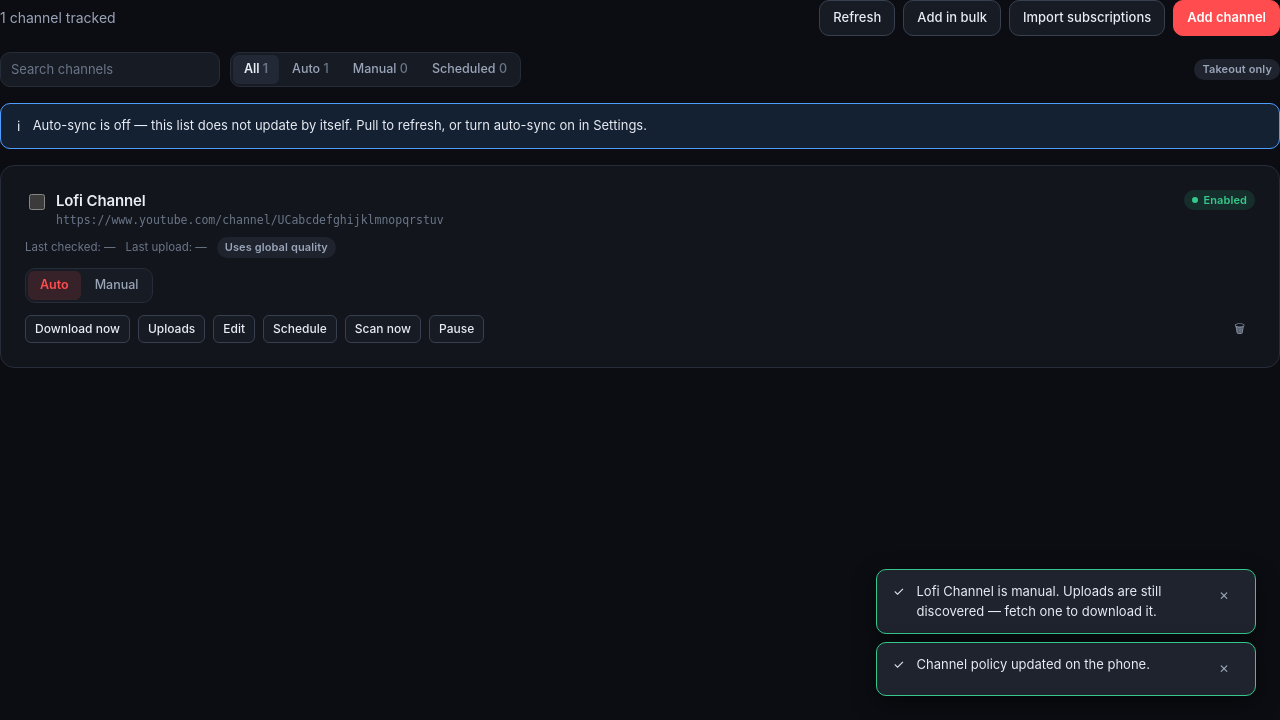
channels screen — schedule editor › explains that scheduling gates the download, not discovery
Expected: the heading "Lofi Channel" is shown, x1=56 y1=191 x2=146 y2=210
Click the button "Schedule" at {"x": 300, "y": 329}, box x1=263 y1=315 x2=337 y2=343
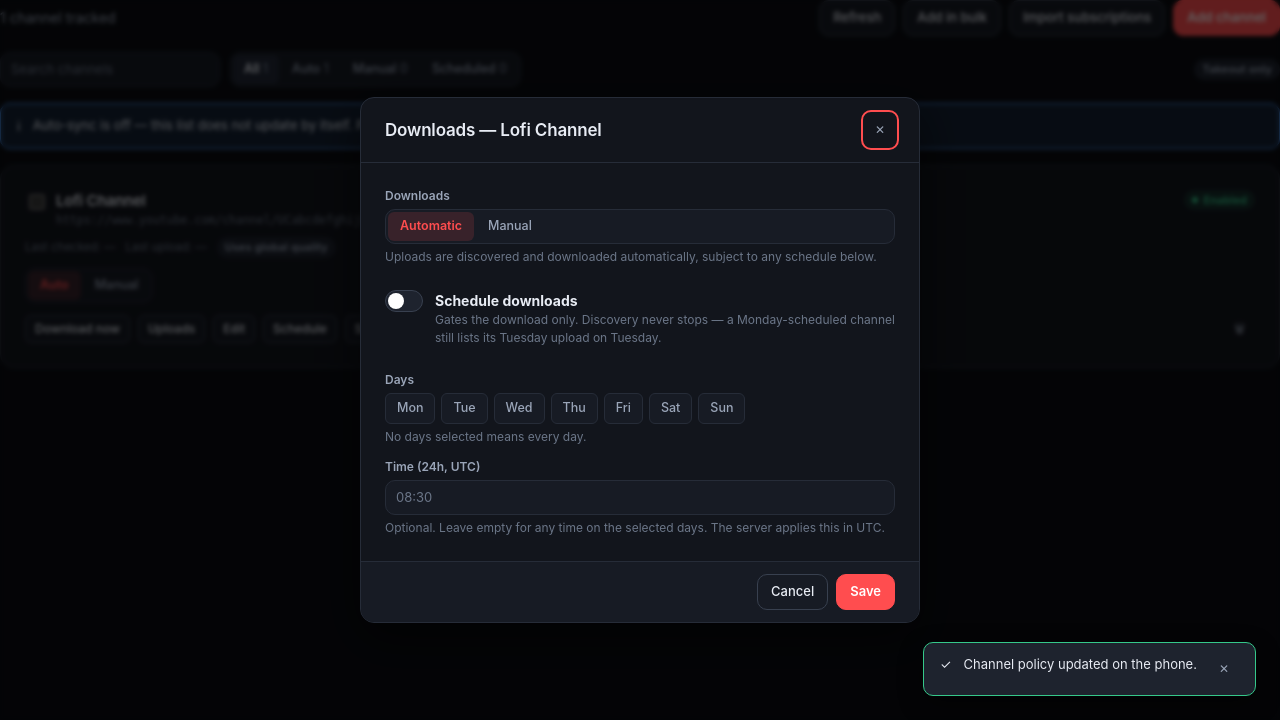
Expected: the text "Discovery never stops" is shown, x1=435 y1=312 x2=895 y2=345
